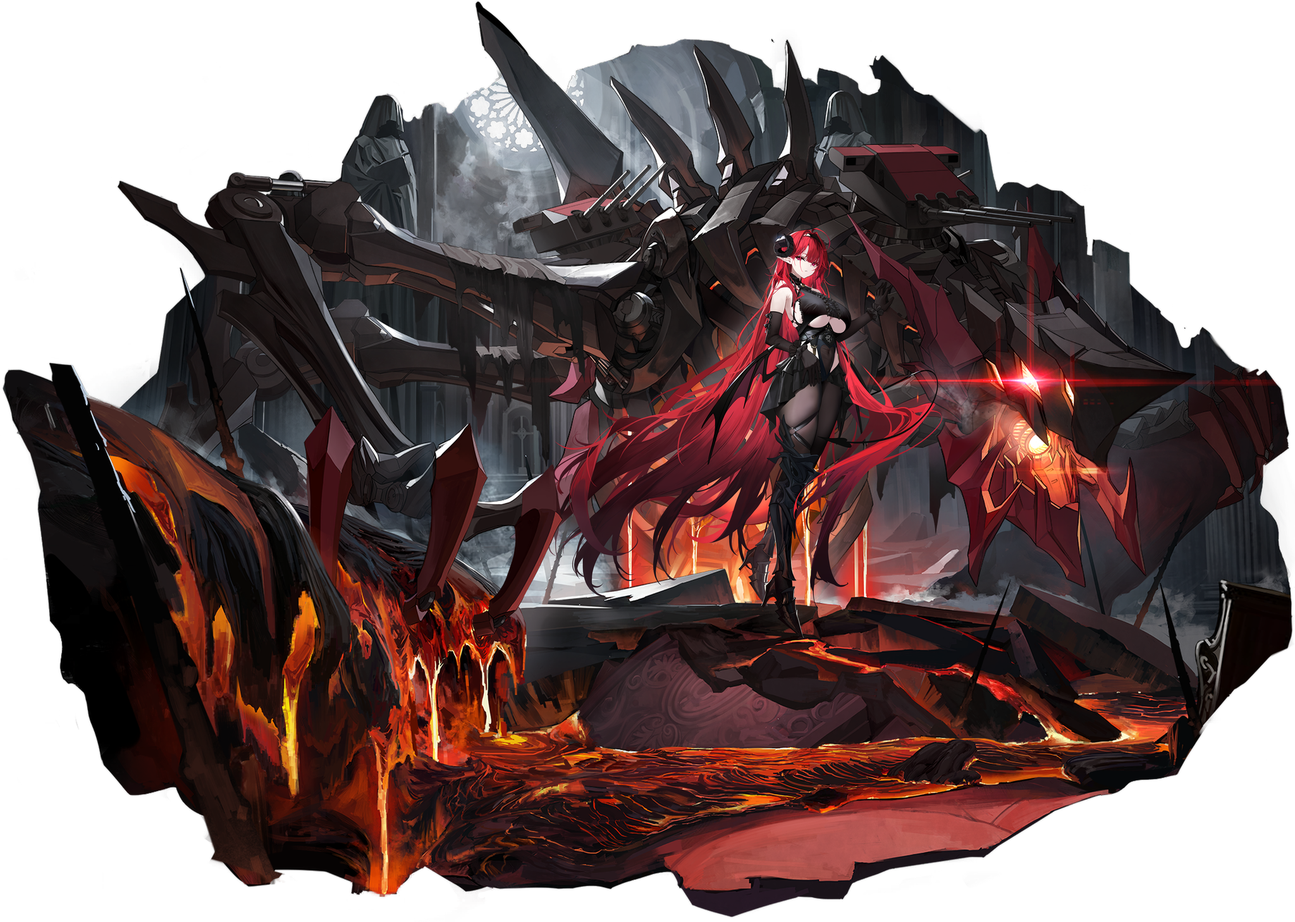person: (699, 198, 898, 673)
